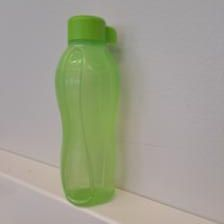bottle: (54, 15, 123, 208)
